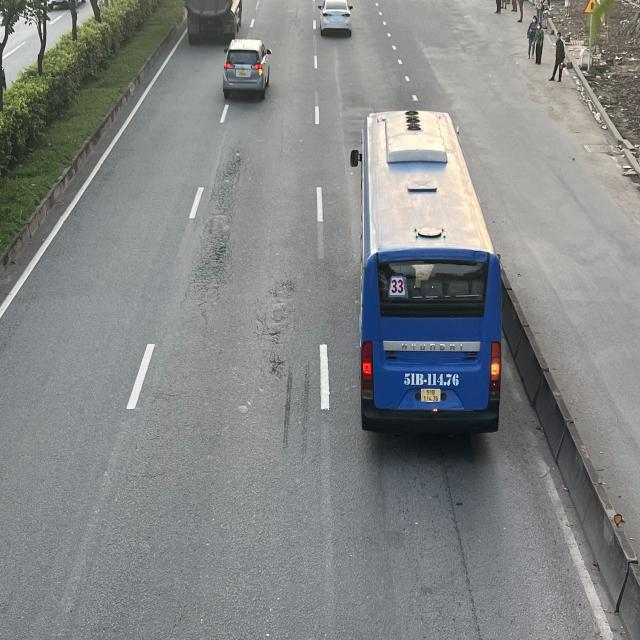car: (224, 39, 274, 100), (316, 1, 354, 36)
coach: (355, 112, 504, 438)
container: (186, 0, 246, 42)
